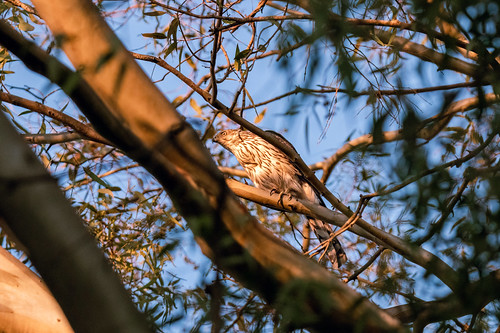animal: (206, 120, 348, 273)
vegetation: (1, 1, 499, 333)
